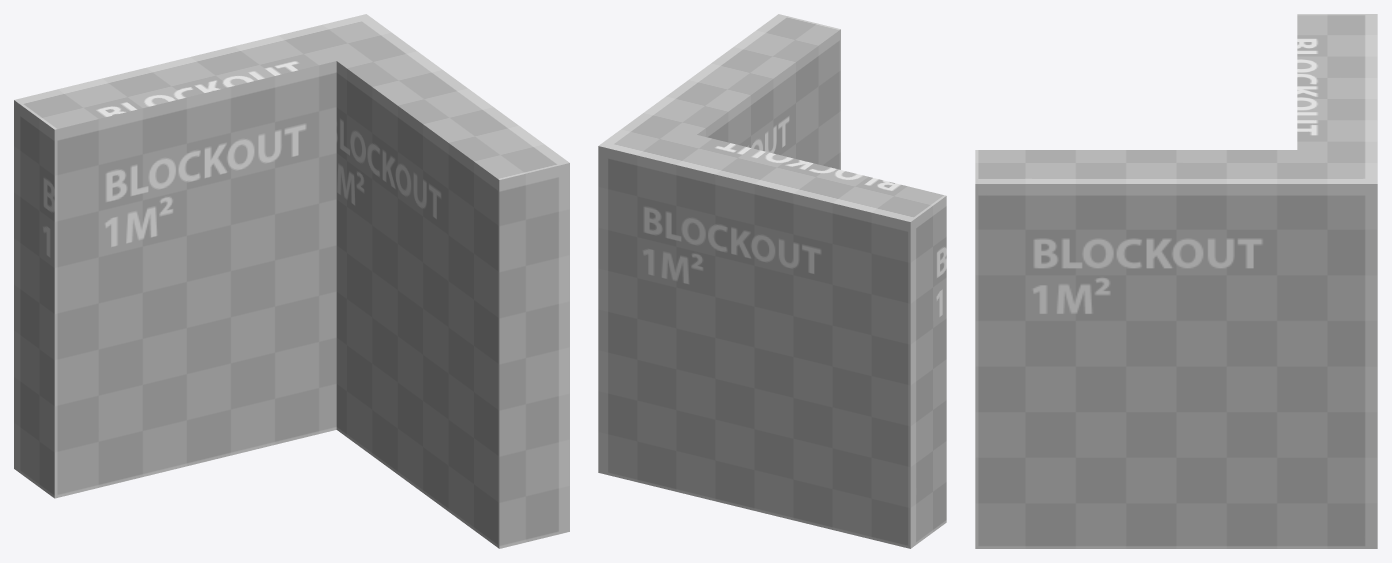
The model's file is BlockoutEdgeHalfThinInside.fbx.
3 views of the same model, side by side, from view 1: azimuth 30°, elevation 25°; view 2: azimuth 150°, elevation 25°; view 3: azimuth 270°, elevation 25° (orthographic). The views are drawn at different scales.
Visible parts, largest first — view 1: BlockoutEdgeHalfThinInside; view 2: BlockoutEdgeHalfThinInside; view 3: BlockoutEdgeHalfThinInside.
Boxes of the visible parts, box(x1,y1,x2,y2) form: BlockoutEdgeHalfThinInside: box(14, 14, 569, 548); BlockoutEdgeHalfThinInside: box(598, 14, 946, 548); BlockoutEdgeHalfThinInside: box(975, 14, 1377, 548).
Bounding box in the file's own units: 100 × 100 × 100.
